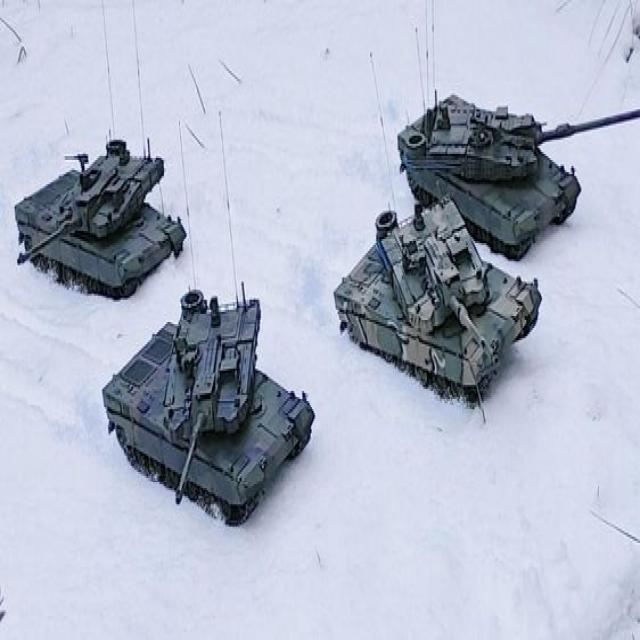tank: (103, 292, 313, 520), (325, 203, 543, 407), (396, 75, 640, 251), (7, 134, 184, 302)
